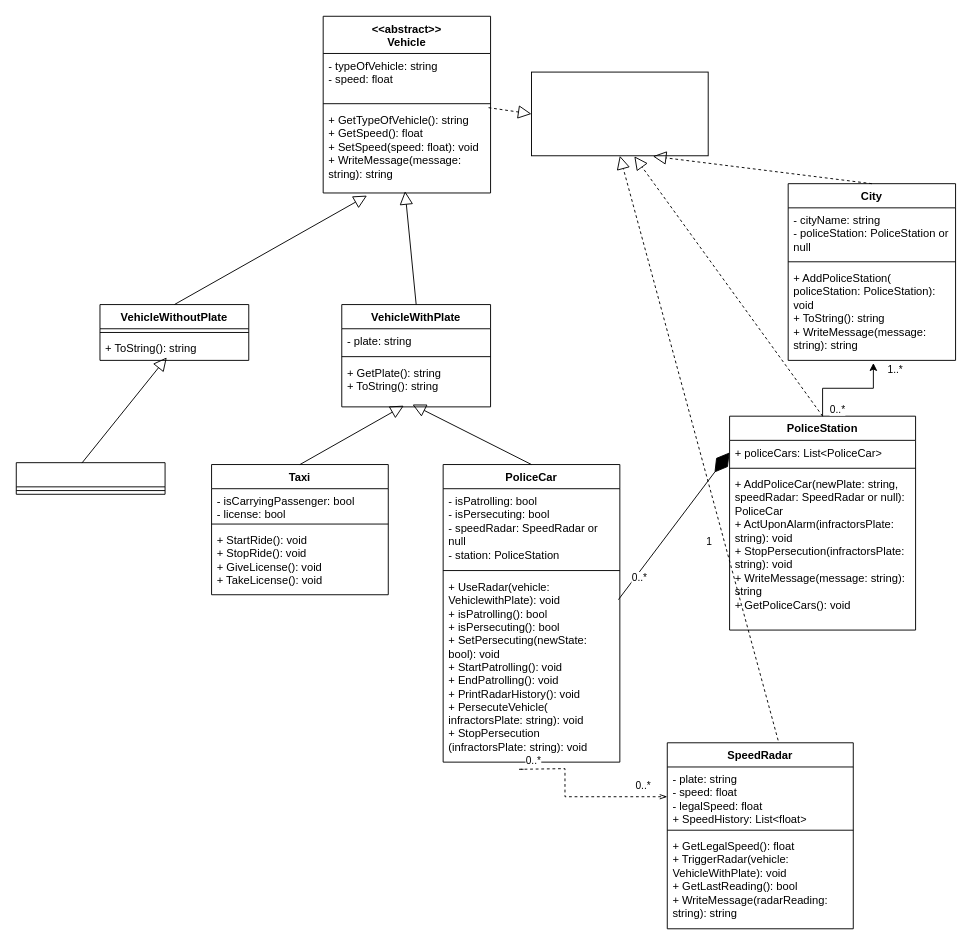
Some shapes in this 972 by 948 pixel diagram are drawn without their labels. The centre of each missing label's shape, as x and y in pixels:
<<Interface>> IMessageWritter + WriteMessage(customMessage: string): string: point 619,113
Skate: point 90,478
